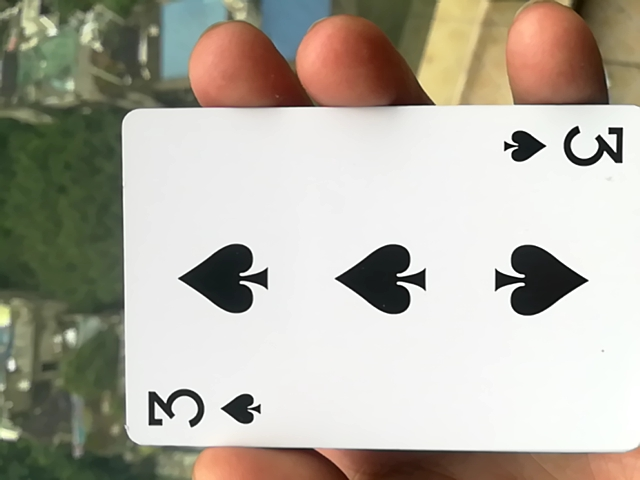ht 3: (109, 113, 636, 472)
